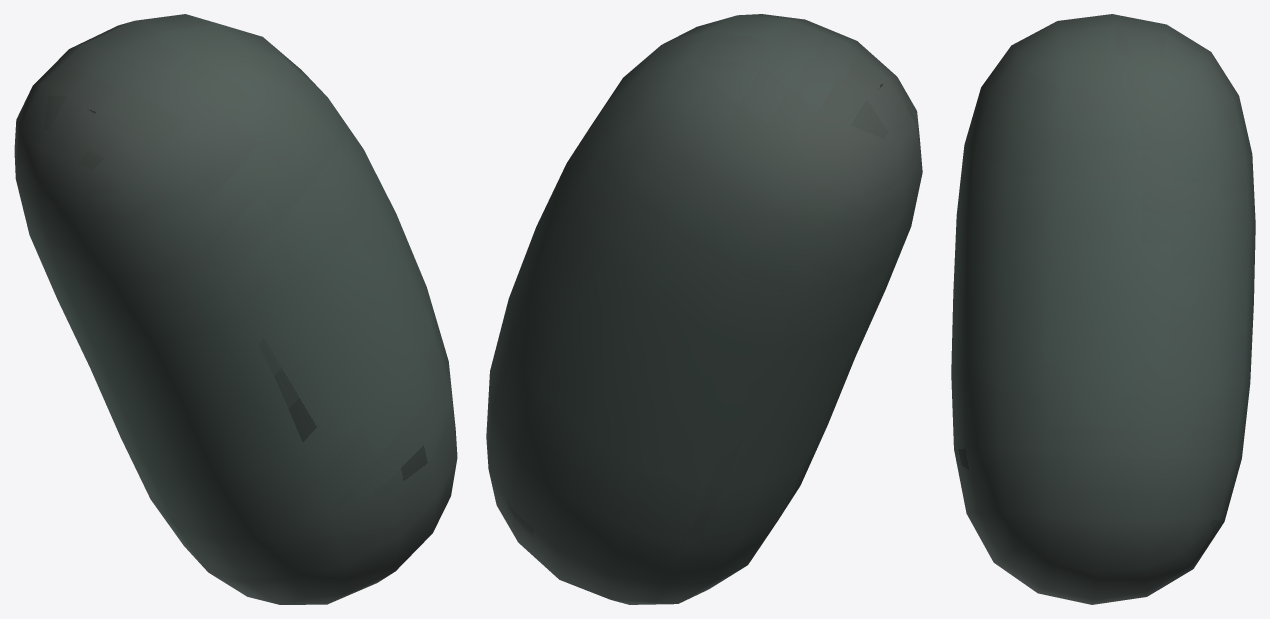
3 views of the same model, side by side, from view 1: azimuth 30°, elevation 25°; view 2: azimuth 150°, elevation 25°; view 3: azimuth 270°, elevation 25° (orthographic). The views are drawn at different scales.
Parts seen in each view (by area): view 1: Cube.012; view 2: Cube.012; view 3: Cube.012.
Part boxes in pixels (<box>): Cube.012: <box>14,14,457,604</box>; Cube.012: <box>486,14,922,604</box>; Cube.012: <box>951,14,1255,604</box>.
Bounding box in the file's own units: 0.1476 × 0.2087 × 0.1123.
1 material, 1 textured.
